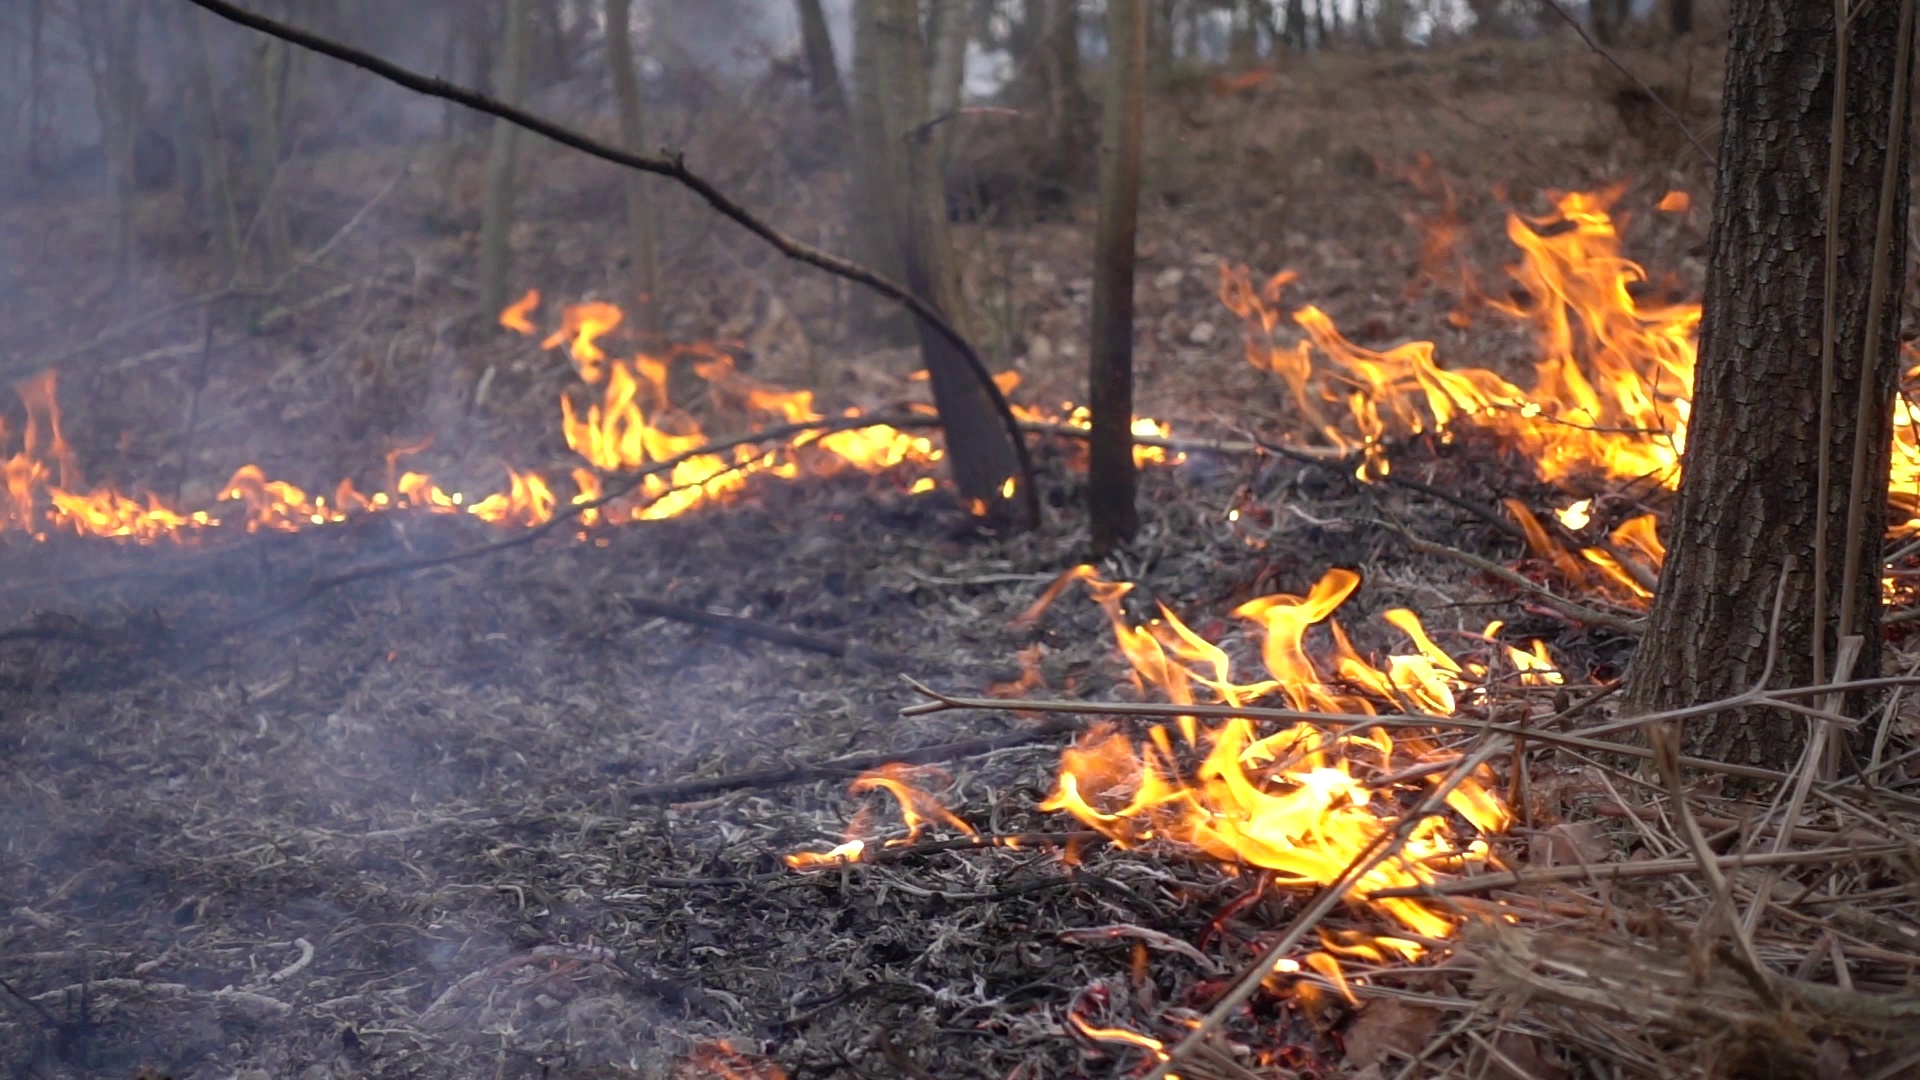fire: (1047, 559, 1515, 955), (1220, 193, 1691, 483), (510, 299, 749, 517), (1, 460, 541, 531), (793, 758, 945, 847), (754, 400, 934, 473), (1892, 393, 1920, 495), (1017, 402, 1089, 434), (1135, 417, 1168, 464)
